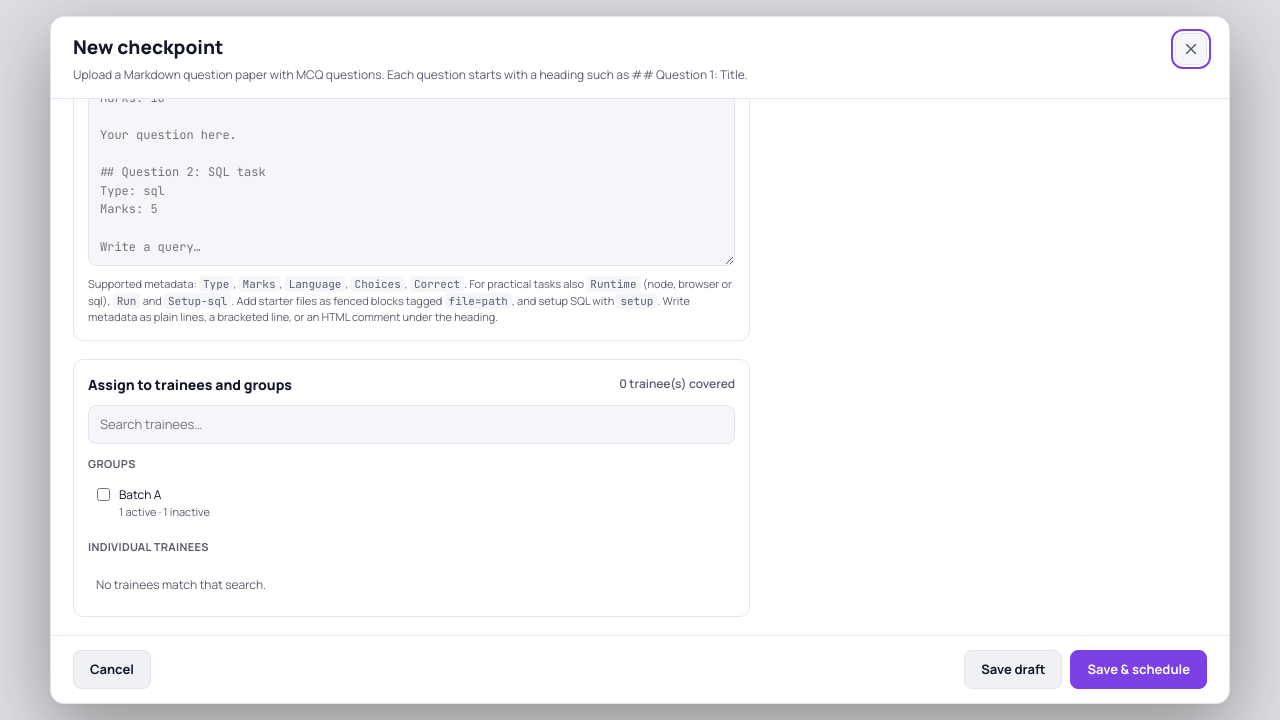
Test case: CheckpointFormDialog › shows active and inactive group members and counts only active ones
(page scrolled)
Check: the text "1 active · 1 inactive" is shown, box [119,504,210,520]
Click the checkbox labelled "Batch A 1 active · 1 inactive": [104, 494] box [97,488,110,501]
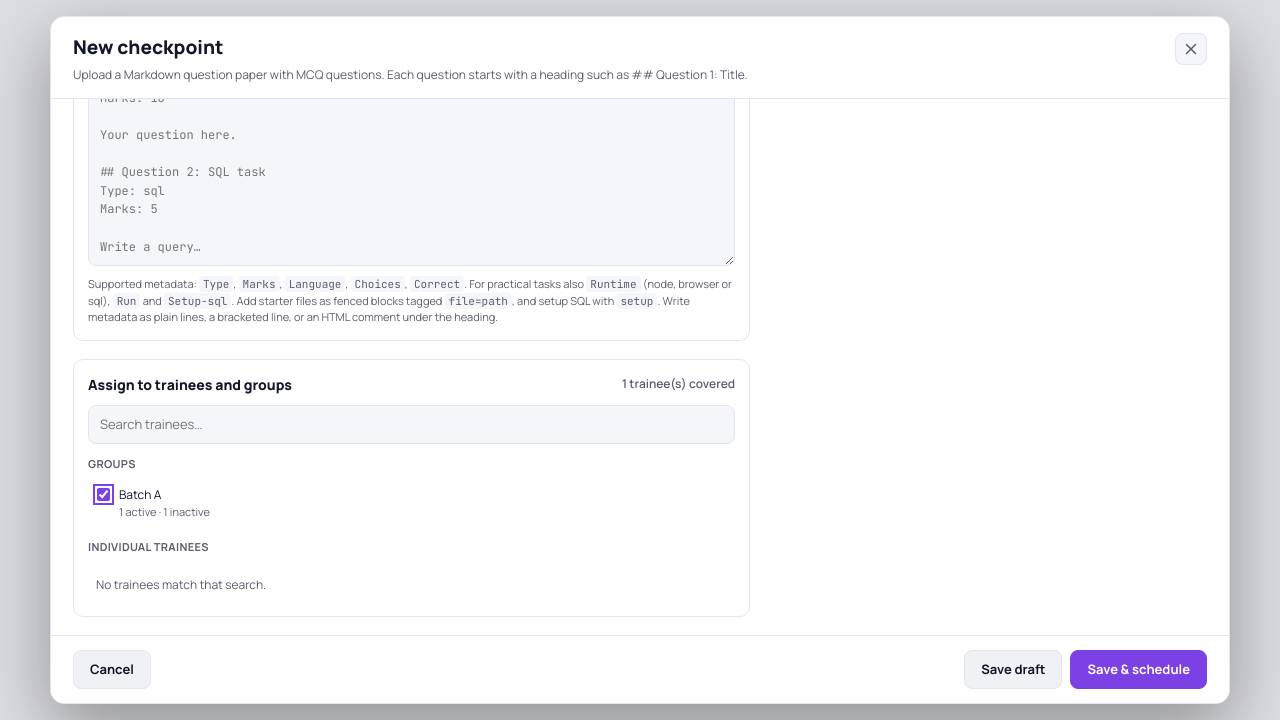
Check: the text "1 trainee(s) covered" is shown, box [622,375,735,393]
